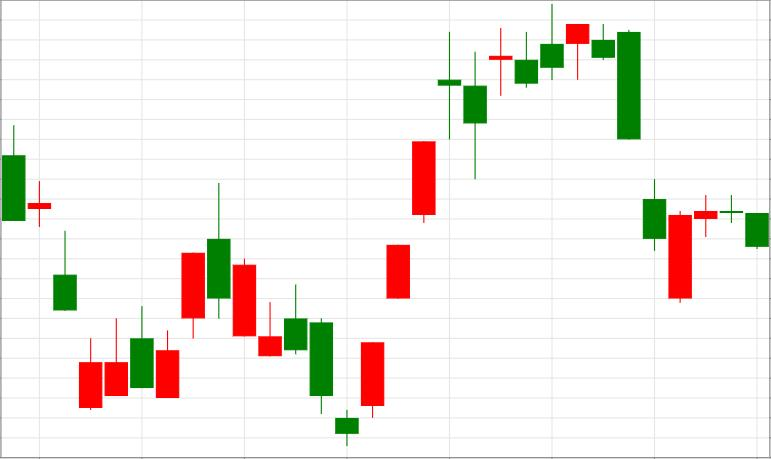morning_star_rise: (208, 182, 384, 445)
three_white_soldiers_rise: (207, 141, 435, 445)
